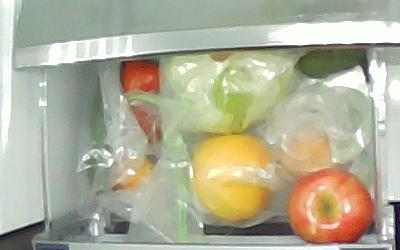apple: (288, 168, 374, 243)
grapefruit_vinyl: (190, 133, 273, 220)
lettuce_vinyl: (165, 49, 292, 131)
paprika_vinyl: (121, 61, 162, 145)
peach_vinyl: (282, 134, 333, 181)
